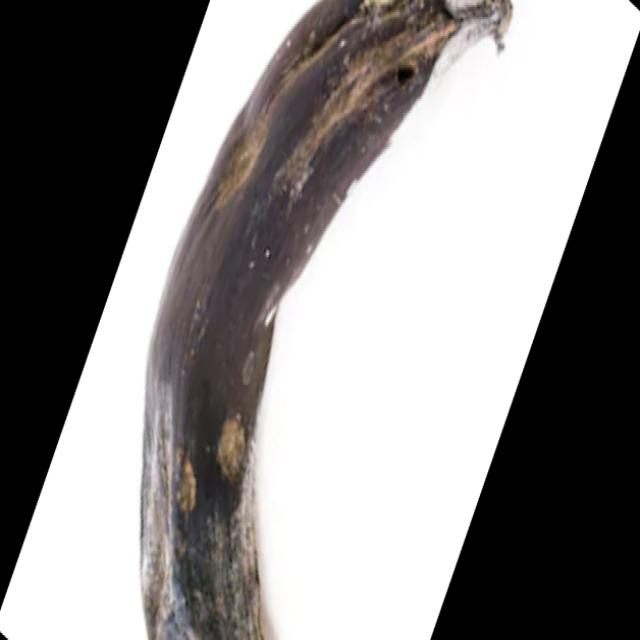Rotten: (138, 0, 512, 640)
